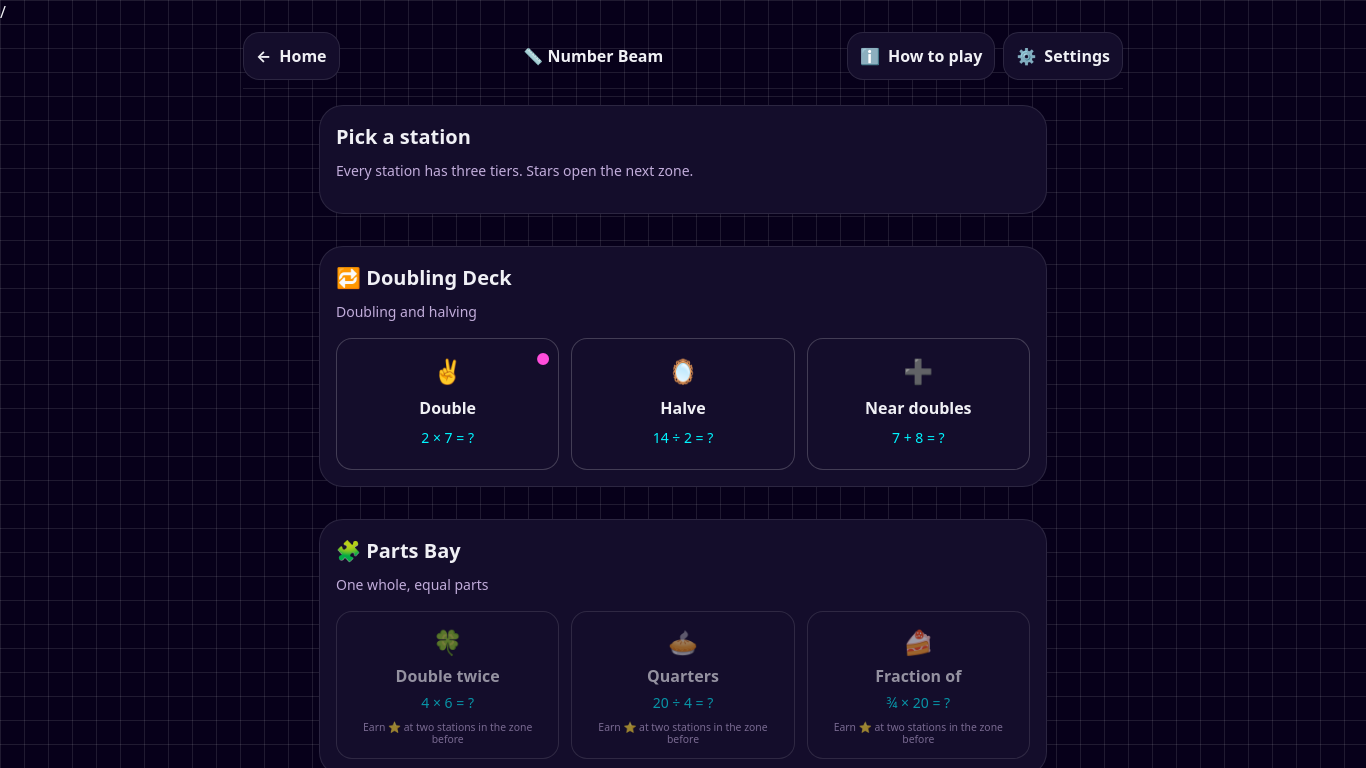
Test case: NumberBeamPage › opens and closes the rules without leaving the map
What coordinates should you click on to do the following:
click the button "ℹ️ How to play"
I would click on:
 (921, 56)
Its box is [847,32,995,80].
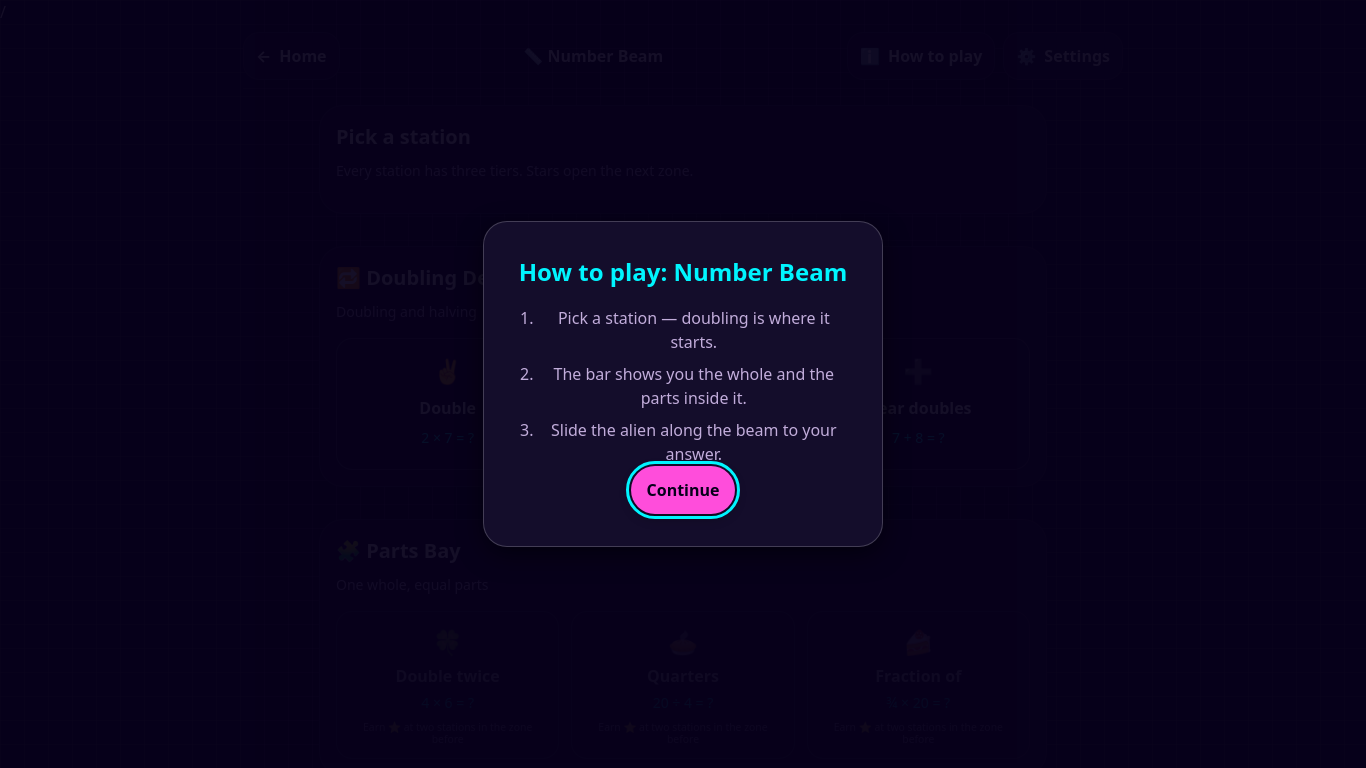
expect the dialog "How to play: Number Beam" is shown: met
What coordinates should you click on to do the following:
click the button "Continue"
I would click on:
 (683, 490)
Its box is [630,466,735,514].
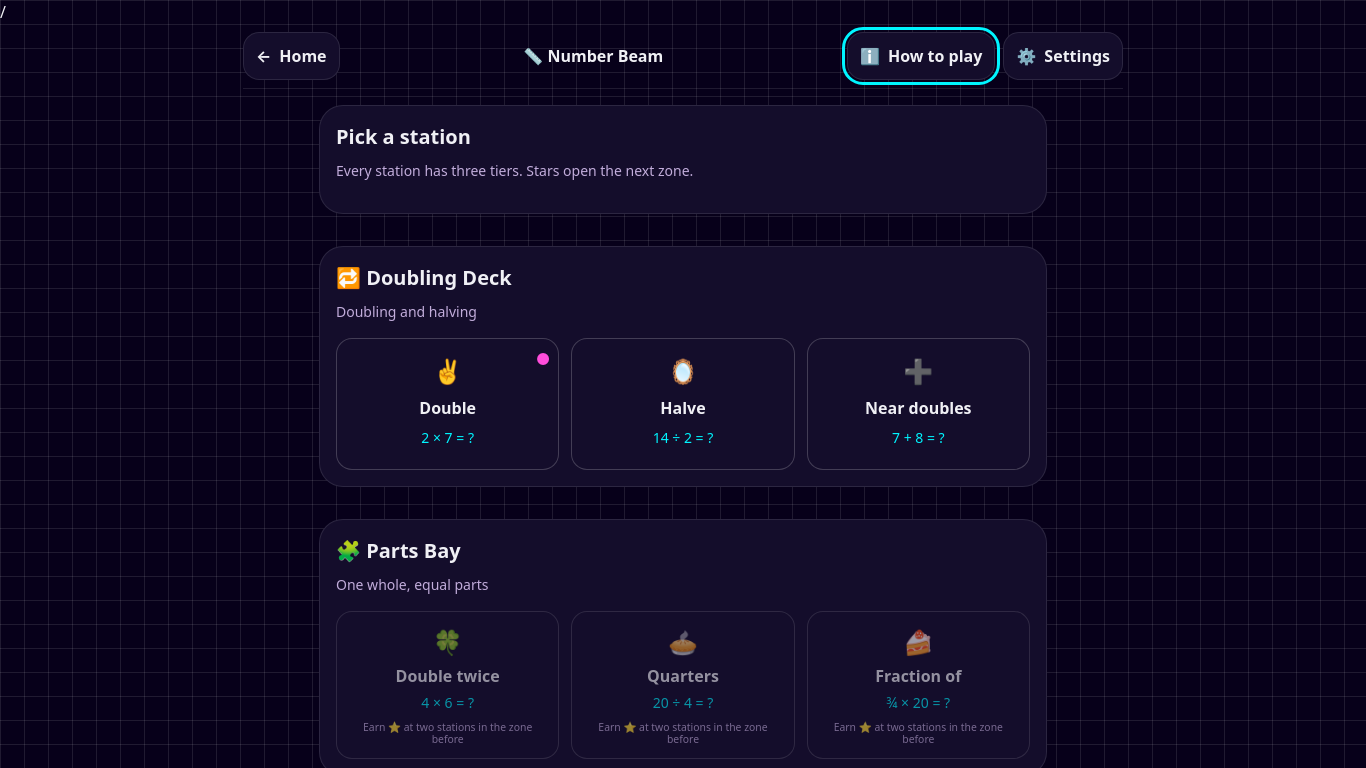
expect the dialog is gone: met
